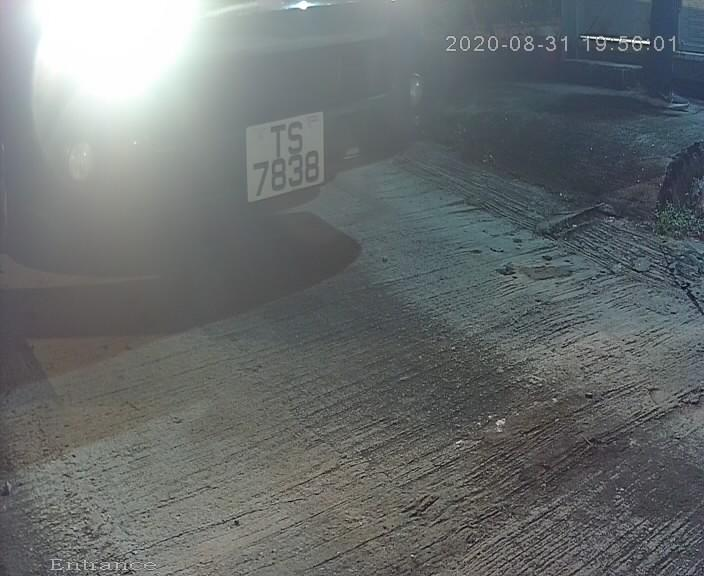License Plate: (236, 98, 334, 217)
